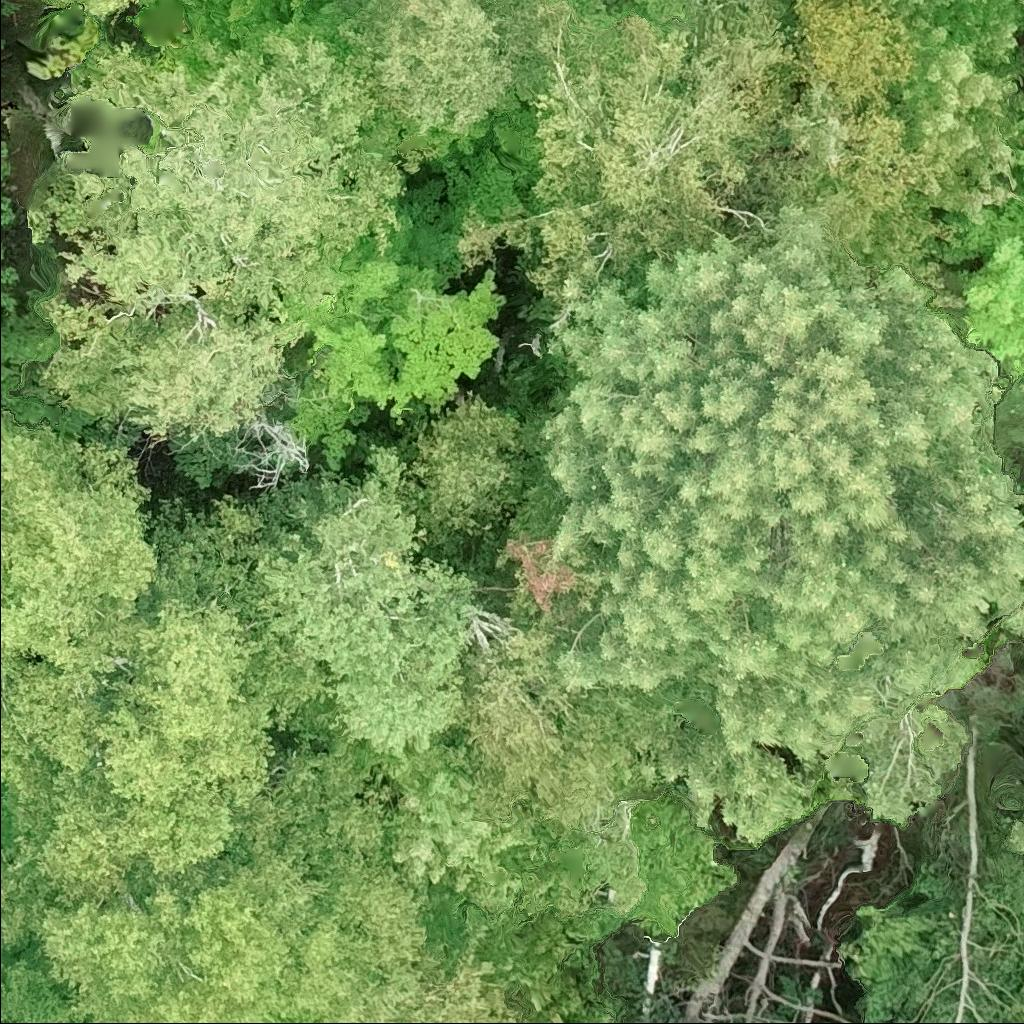crown: (491, 203, 1023, 847), (0, 491, 339, 956), (27, 26, 413, 334), (32, 740, 440, 1023), (451, 0, 803, 316), (235, 445, 478, 758), (0, 406, 161, 782), (37, 298, 312, 446), (292, 238, 509, 424), (464, 626, 630, 829), (883, 0, 1023, 221), (375, 731, 542, 913), (332, 0, 517, 148), (391, 388, 526, 563), (936, 122, 1023, 387), (511, 799, 650, 920), (779, 0, 916, 106), (370, 946, 523, 1023), (186, 0, 349, 48), (0, 939, 91, 1023), (29, 0, 138, 24), (999, 814, 1023, 910), (602, 0, 682, 22), (282, 1020, 319, 1023)
